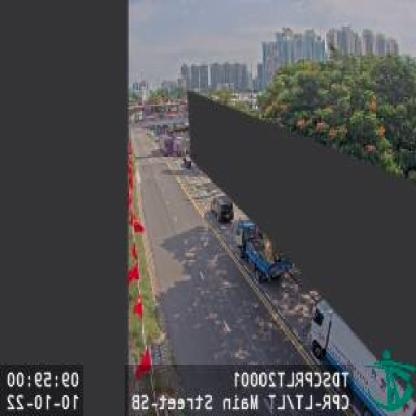Car: (210, 196, 235, 225)
Truck: (309, 297, 416, 416), (235, 212, 290, 279)
